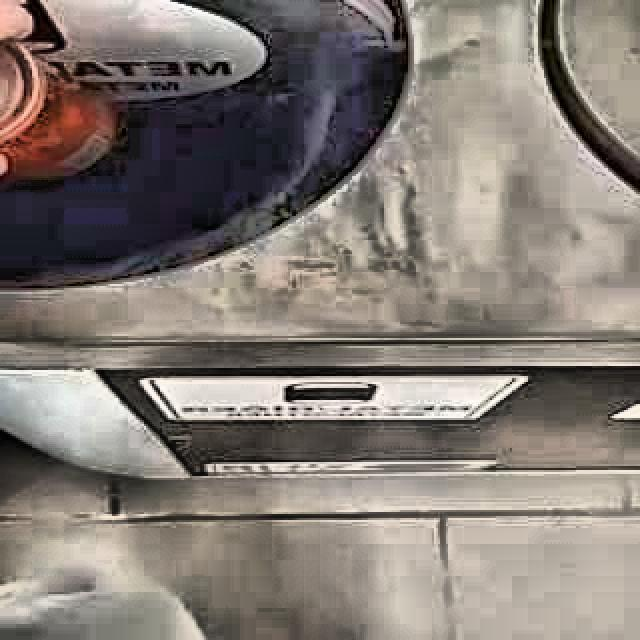metal: (0, 41, 112, 175)
